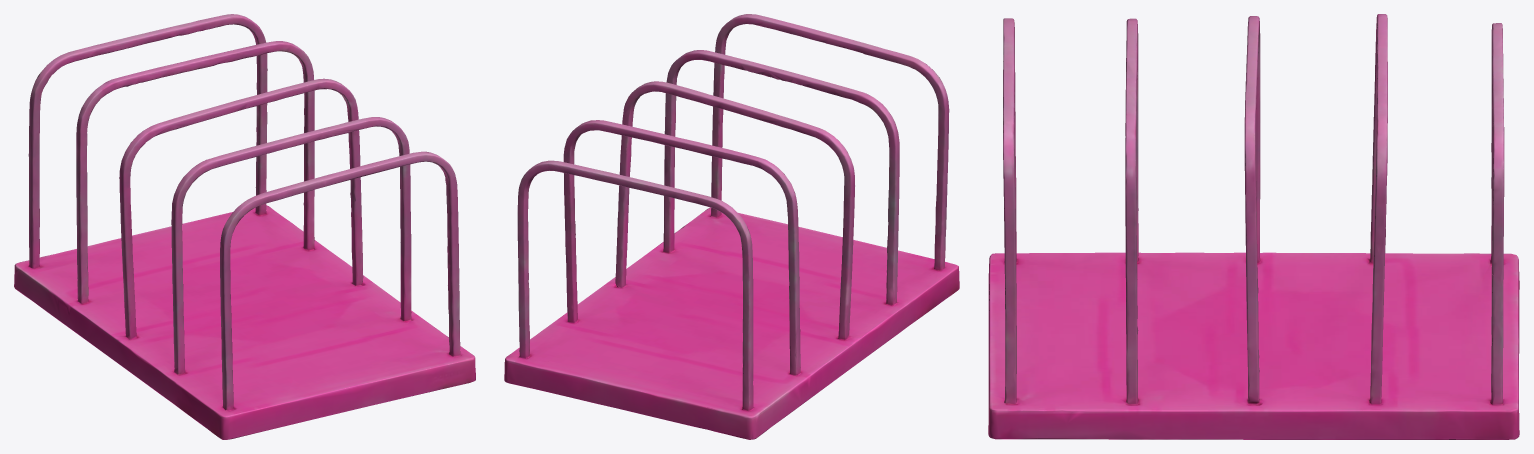
Rendered from Poppin_File_Sorter_Pink.glb.
3 renders of one model, left to right at view 1: azimuth 30°, elevation 25°; view 2: azimuth 150°, elevation 25°; view 3: azimuth 270°, elevation 25°, orthographic. The views are drawn at different scales.
Parts seen in each view (by area): view 1: Poppin_File_Sorter_Pink; view 2: Poppin_File_Sorter_Pink; view 3: Poppin_File_Sorter_Pink.
Boxes of the visible parts, x1,y1,x2,y2 form: Poppin_File_Sorter_Pink: [14, 14, 475, 439]; Poppin_File_Sorter_Pink: [504, 14, 959, 439]; Poppin_File_Sorter_Pink: [988, 14, 1519, 439].
Bounding box in the file's own units: 0.1739 × 0.157 × 0.2503.
Materials: 1 (1 with a texture image).
